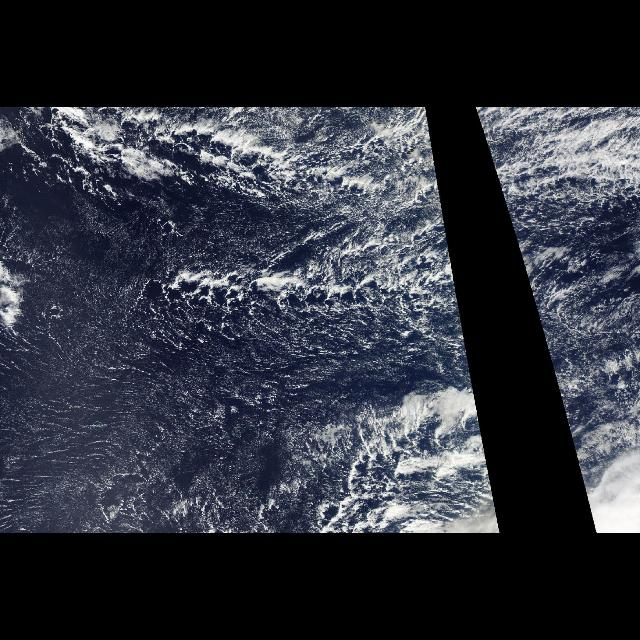Gravel: (6, 118, 470, 528), (478, 118, 634, 342)
Sugar: (1, 209, 402, 533)
